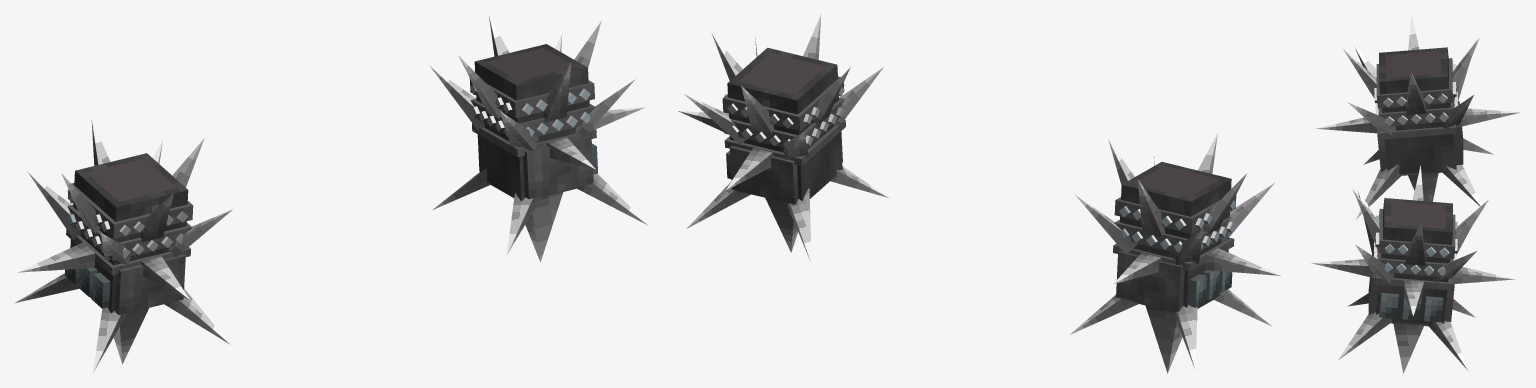
Rendered from iron_fist.glb.
3 views of the same model, side by side, from view 1: azimuth 30°, elevation 25°; view 2: azimuth 150°, elevation 25°; view 3: azimuth 270°, elevation 25° (orthographic). The views are drawn at different scales.
Parts seen in each view (by area): view 1: off__Tool_L, main__Tool_R; view 2: off__Tool_L, main__Tool_R; view 3: main__Tool_R, off__Tool_L.
Part boxes in pixels (x1,y1,x2,y2): off__Tool_L: [14, 119, 232, 372]; main__Tool_R: [429, 14, 647, 261]; off__Tool_L: [1070, 133, 1280, 373]; main__Tool_R: [678, 14, 889, 263]; main__Tool_R: [1310, 165, 1515, 373]; off__Tool_L: [1316, 15, 1521, 219].
Bounding box in the file's own units: 2.72 × 0.9914 × 0.9585.
1 material, 1 textured.
